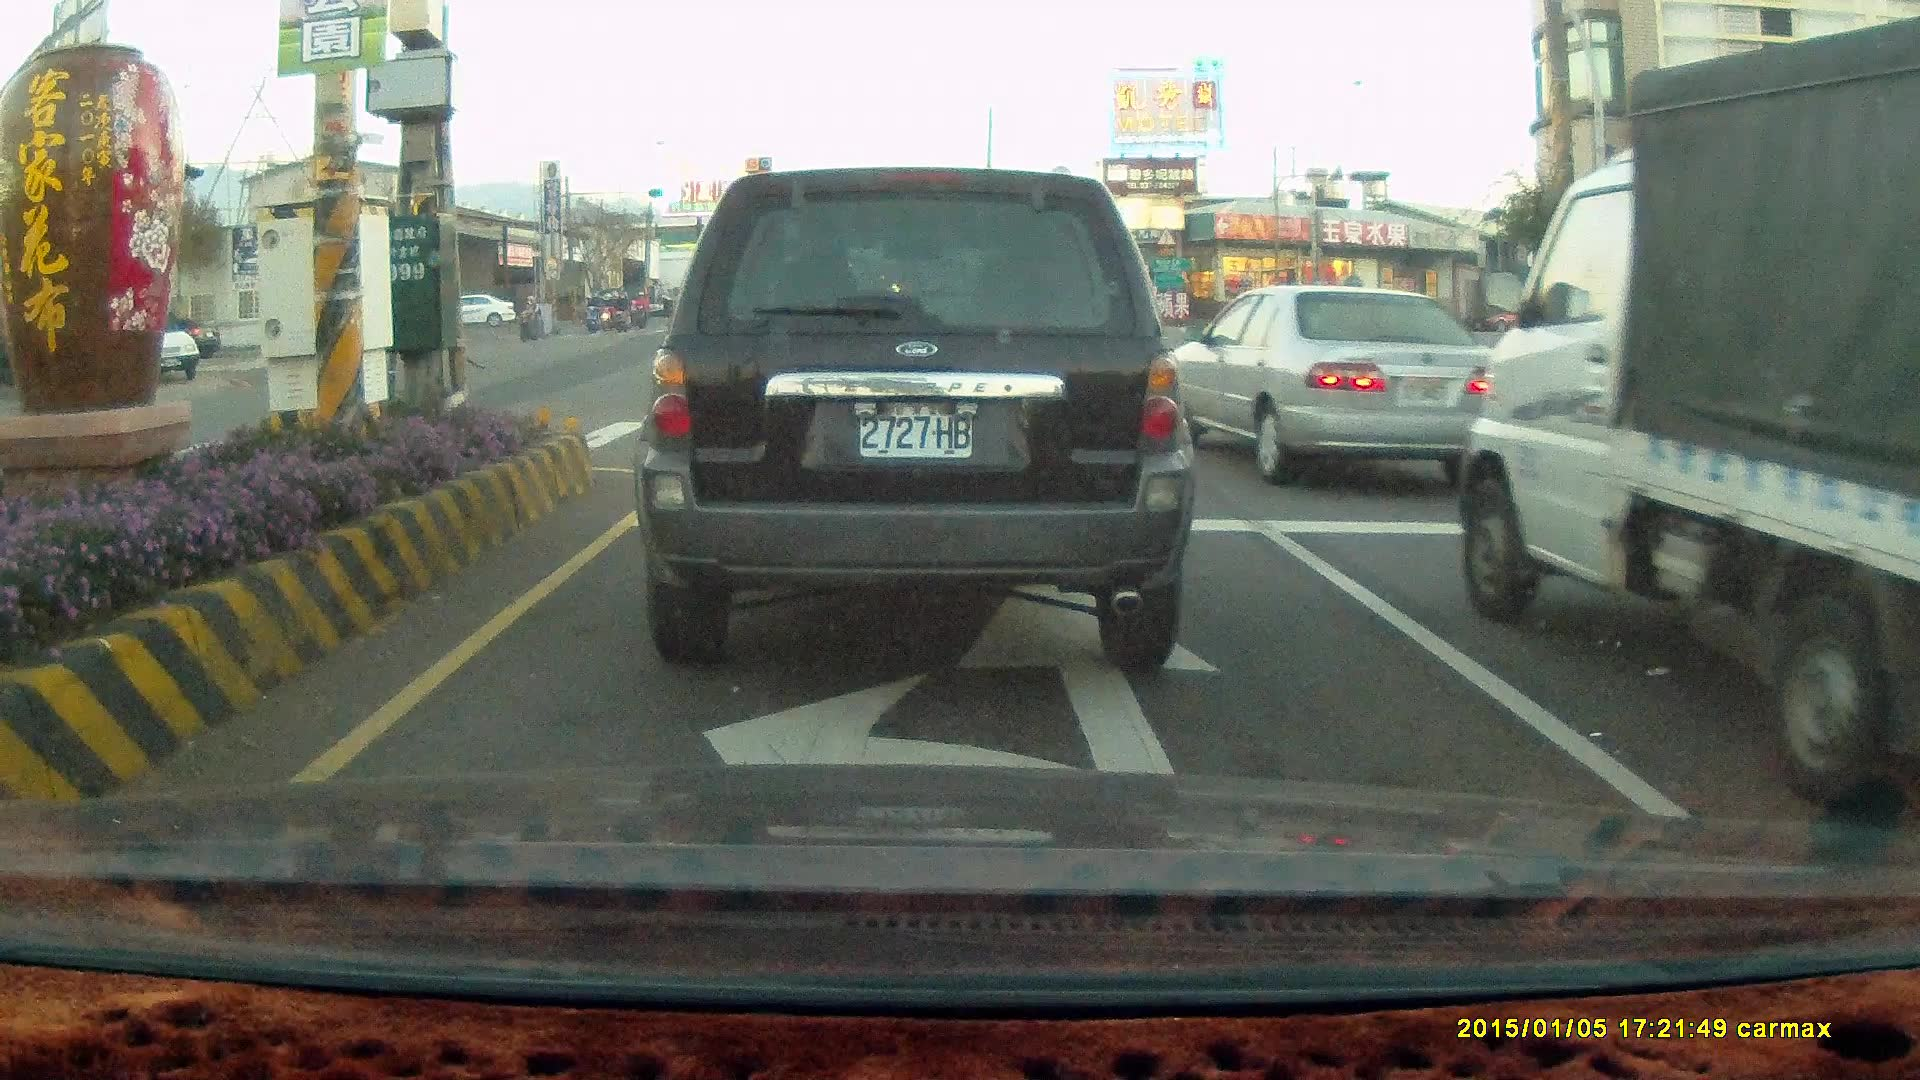rider: (511, 293, 543, 341), (611, 289, 636, 336), (582, 291, 603, 336), (586, 294, 608, 334)
vehicle: (1458, 13, 1920, 817), (631, 164, 1193, 670), (1161, 281, 1510, 485), (1146, 287, 1491, 483), (1681, 283, 1838, 371), (115, 309, 200, 386), (448, 296, 516, 328)
